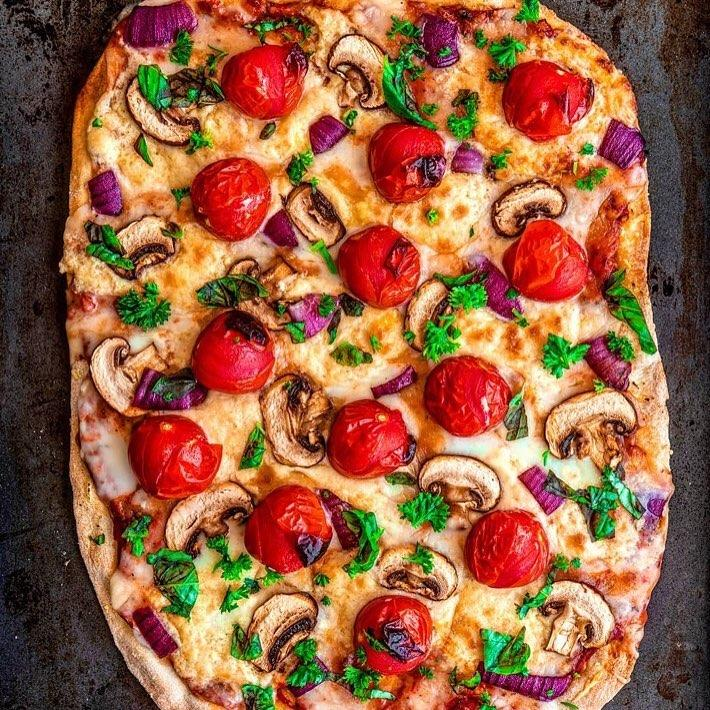Mushroom: (542, 385, 645, 464), (161, 480, 252, 563), (261, 369, 328, 470), (242, 588, 321, 673), (539, 581, 622, 658), (90, 337, 171, 414), (125, 75, 203, 148), (370, 540, 462, 599), (329, 31, 395, 112), (417, 454, 504, 507), (104, 216, 176, 279), (281, 178, 346, 247), (490, 180, 571, 235), (401, 274, 453, 352)
Onion: (476, 657, 579, 710), (467, 255, 525, 320), (125, 0, 199, 50), (137, 369, 203, 415), (580, 333, 635, 385), (416, 13, 463, 70), (515, 463, 572, 507), (626, 486, 675, 537), (286, 294, 341, 339), (134, 604, 180, 656), (600, 117, 646, 169), (84, 168, 123, 216), (260, 210, 302, 250), (371, 367, 415, 398), (449, 140, 485, 176)
Pizza: (68, 0, 676, 710)
Tomatoes: (242, 486, 330, 570), (131, 415, 220, 498), (336, 224, 422, 309), (328, 399, 417, 481), (504, 220, 590, 304), (505, 62, 594, 141), (466, 507, 551, 589), (426, 355, 508, 439), (350, 593, 432, 676), (192, 313, 275, 394), (192, 157, 271, 242), (221, 44, 302, 120), (370, 123, 444, 202)
